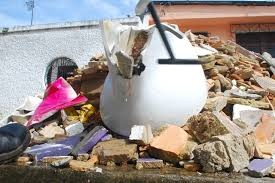rubble: (33, 34, 272, 176)
